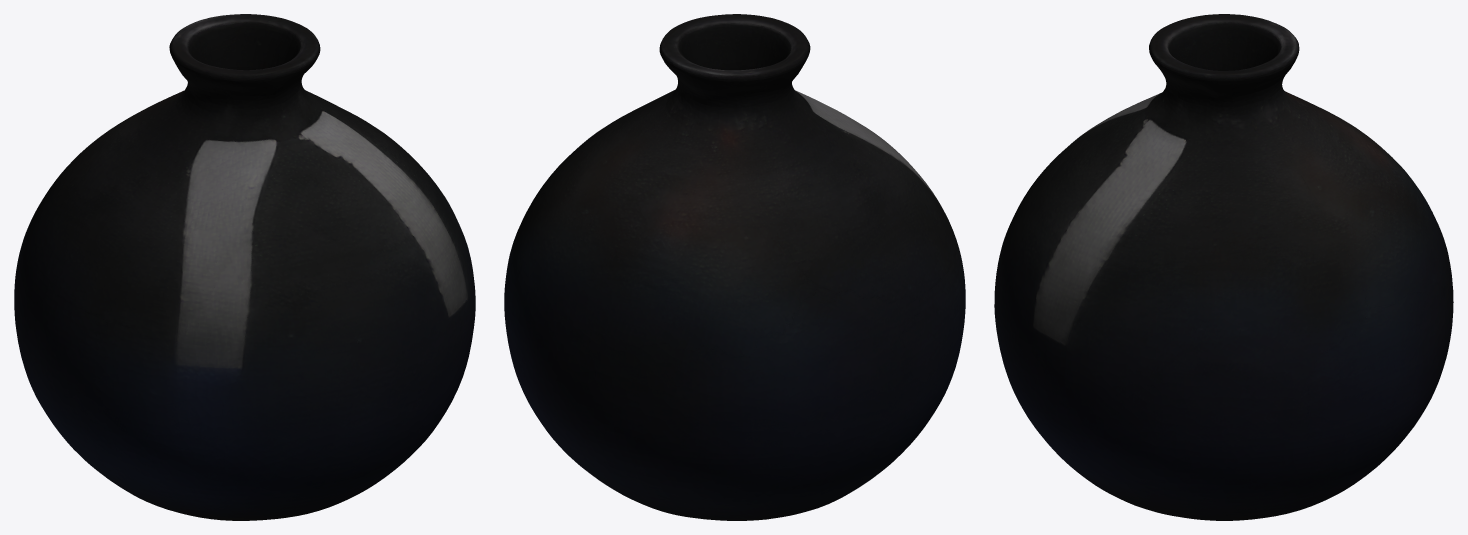
Rendered from vase.obj.
3 views of the same model, side by side, from view 1: azimuth 30°, elevation 25°; view 2: azimuth 150°, elevation 25°; view 3: azimuth 270°, elevation 25° (orthographic).
Visible parts, largest first — view 1: geometry_0.001; view 2: geometry_0.001; view 3: geometry_0.001.
Part boxes in pixels (bbox=[...]): geometry_0.001: bbox=[14, 14, 475, 520]; geometry_0.001: bbox=[504, 14, 965, 520]; geometry_0.001: bbox=[994, 14, 1453, 520].
Size of the model in its own units: 101 by 105 by 101.
Materials: 1 (1 with a texture image).
